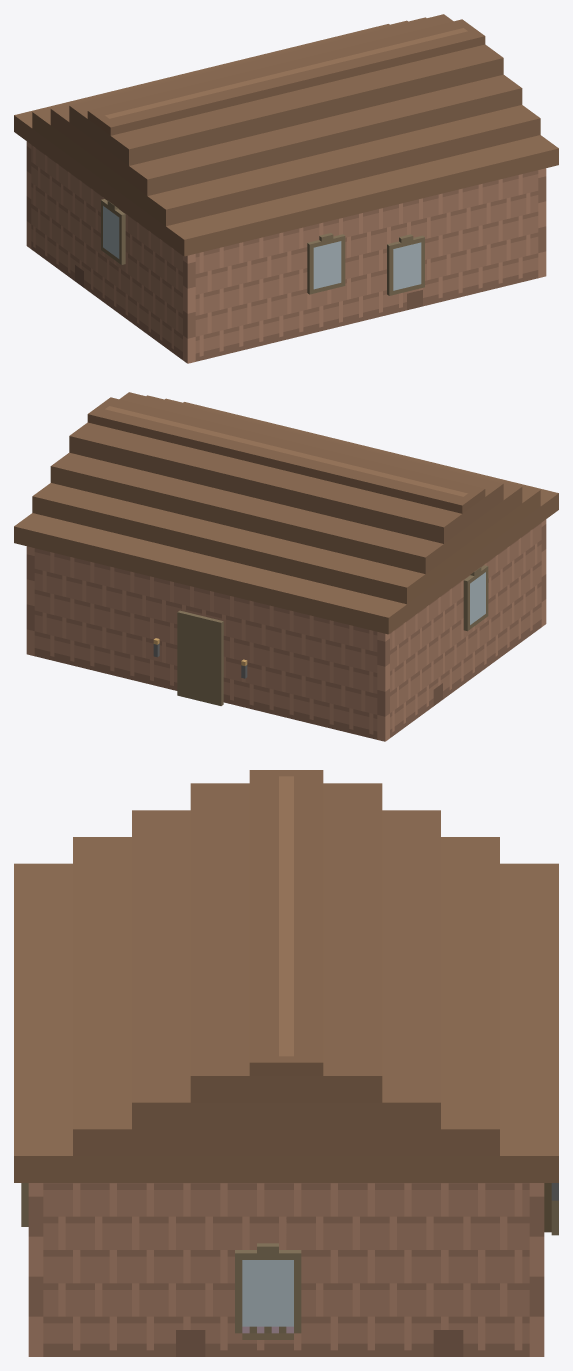
Rendered from casa_modesta_01.glb.
3 views of the same model, one above another, from view 1: azimuth 30°, elevation 25°; view 2: azimuth 150°, elevation 25°; view 3: azimuth 270°, elevation 25° (orthographic). The views are drawn at different scales.
Visible parts, largest first — view 1: casa_modesta_01; view 2: casa_modesta_01; view 3: casa_modesta_01.
Boxes of the visible parts, x1=… form: casa_modesta_01: x1=14, y1=14, x2=558, y2=363; casa_modesta_01: x1=14, y1=392, x2=558, y2=741; casa_modesta_01: x1=14, y1=770, x2=558, y2=1356.
Size of the model in its own units: 9.4 by 4.5 by 7.4.
